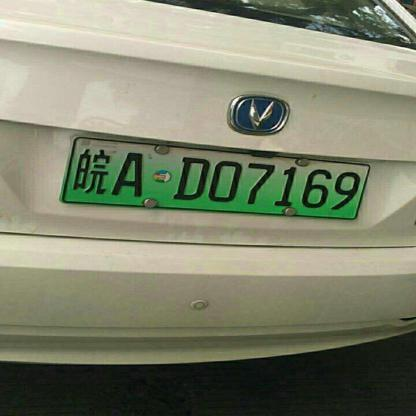lp: (65, 136, 372, 221)
